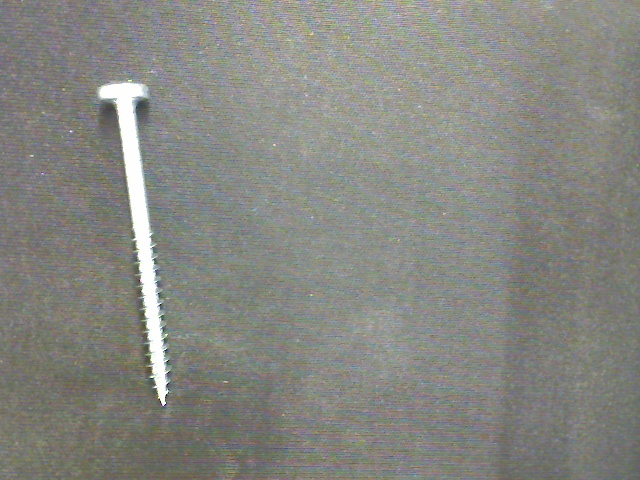Screw: (96, 81, 171, 405)
